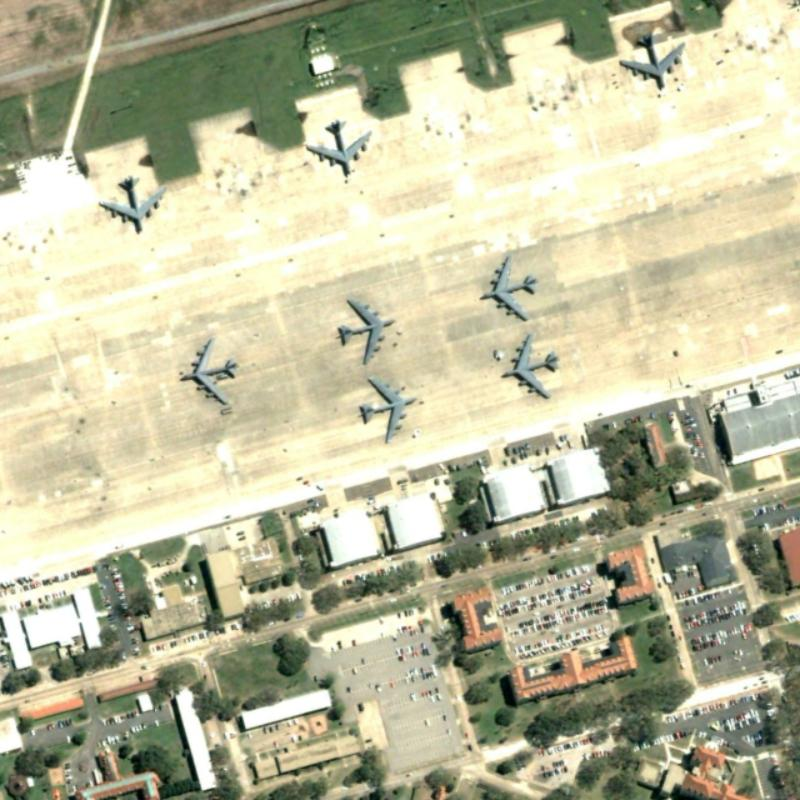A8: (175, 332, 240, 406), (93, 171, 168, 233), (616, 29, 688, 92), (355, 373, 417, 445), (303, 116, 374, 178), (498, 331, 560, 401), (478, 251, 539, 321), (336, 296, 396, 366)
